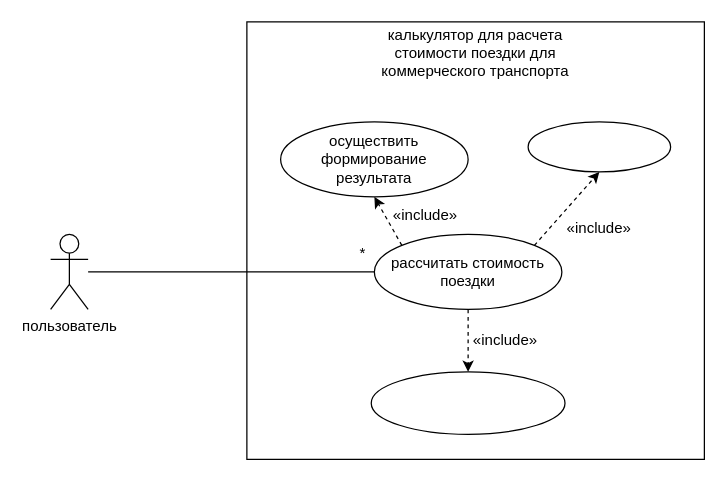
The diagram is 726 pixels wide and 481 high, and some of its shapes have lost their labels. Each missing label, with the centre of its shape:
ввести данные: point 467,402
выбрать данные: point 599,146
